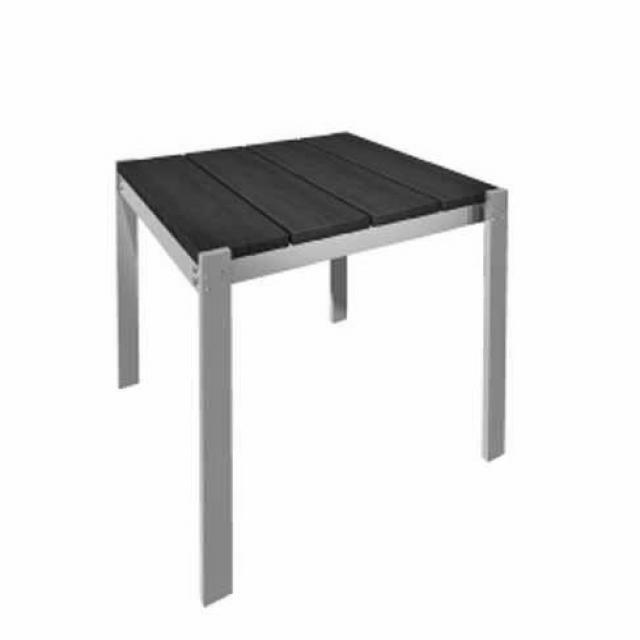table: (114, 130, 510, 608)
